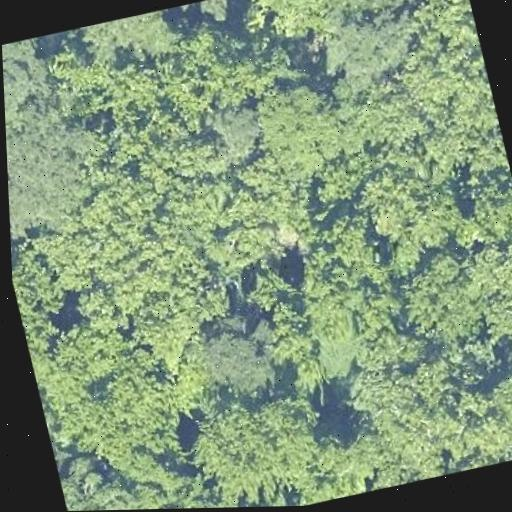tree-top: (61, 128, 259, 325), (315, 358, 474, 497), (391, 0, 506, 165), (57, 360, 194, 487), (187, 385, 326, 508), (57, 25, 177, 145), (5, 100, 104, 234), (162, 21, 277, 129), (295, 261, 399, 377), (353, 154, 465, 259), (238, 256, 323, 386), (395, 245, 497, 353), (247, 75, 346, 183), (39, 301, 144, 399), (189, 308, 284, 407), (58, 448, 201, 511), (314, 13, 408, 97), (69, 5, 194, 67), (10, 234, 77, 339), (454, 189, 512, 293), (2, 37, 58, 129), (316, 208, 386, 279), (454, 370, 512, 455), (460, 160, 512, 253), (214, 95, 280, 165), (455, 233, 512, 308), (244, 0, 334, 47), (320, 0, 453, 24), (491, 281, 512, 404), (443, 446, 512, 475), (180, 0, 252, 24), (213, 495, 301, 508), (421, 0, 470, 10)
